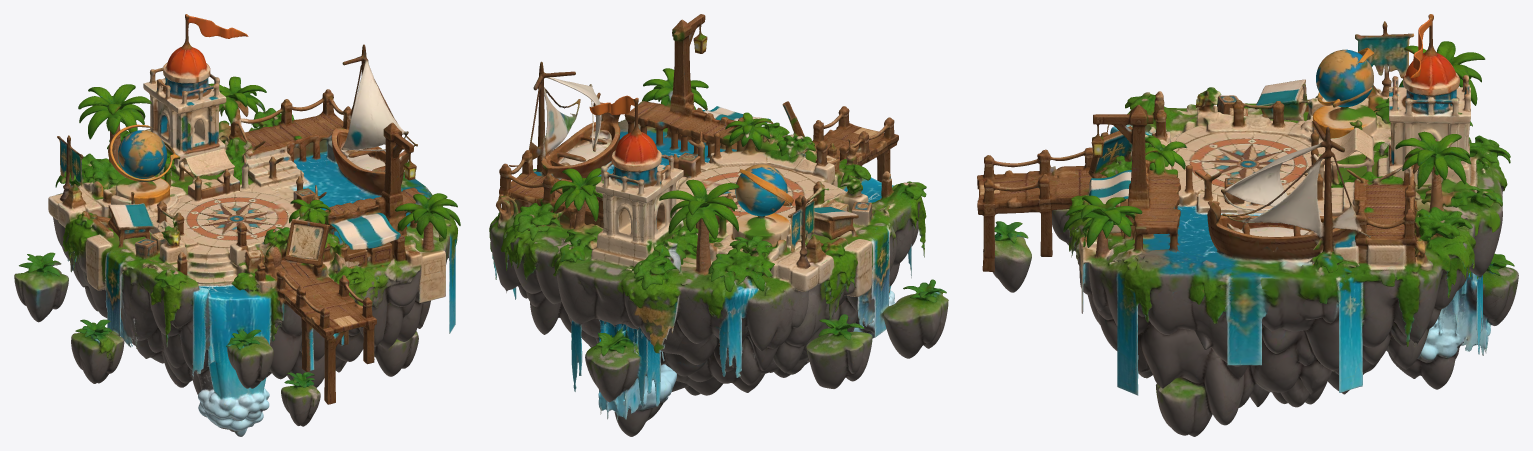
Rendered from meshy-pulauenglish.glb.
3 renders of one model, left to right at view 1: azimuth 30°, elevation 25°; view 2: azimuth 150°, elevation 25°; view 3: azimuth 270°, elevation 25°, orthographic. The views are drawn at different scales.
Size of the model in its own units: 1.69 by 1.47 by 1.88.
1 material, 1 textured.
